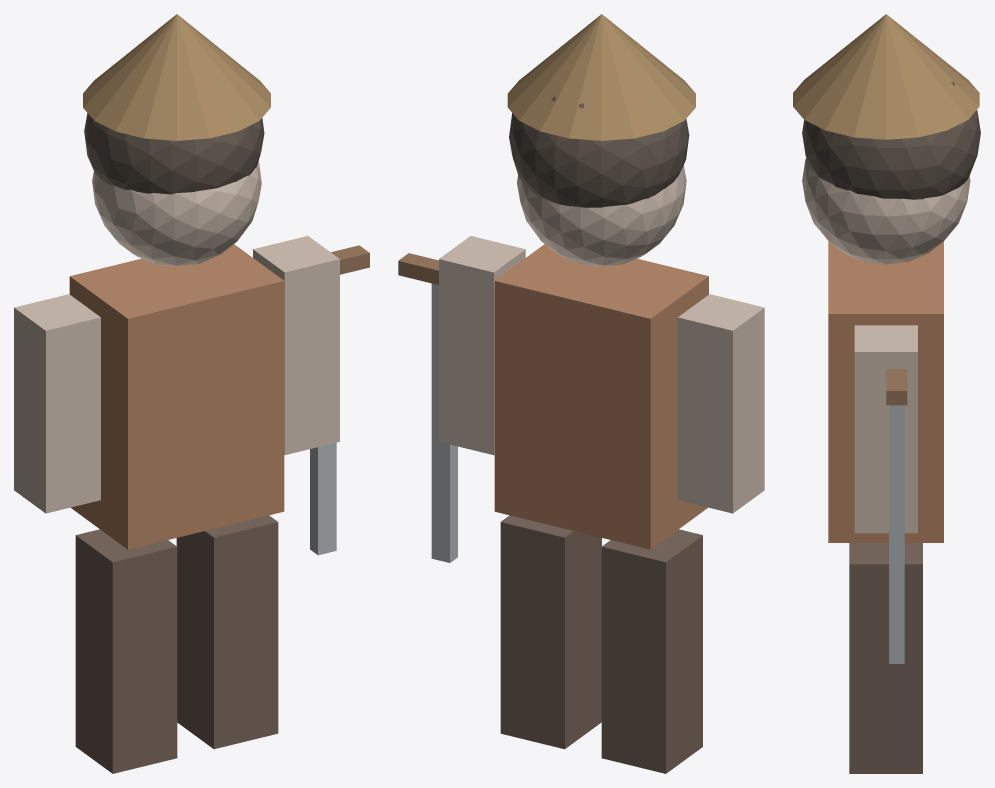
The model's file is barbarian.glb.
The picture shows the model from 3 angles, left to right: view 1: azimuth 30°, elevation 25°; view 2: azimuth 150°, elevation 25°; view 3: azimuth 270°, elevation 25°; orthographic projection.
Parts seen in each view (by area): view 1: g0, g4, g5, g2, g7, g3, g1, g6, g8, g9; view 2: g0, g4, g5, g2, g7, g3, g6, g1, g8, g9; view 3: g0, g5, g7, g3, g6, g1, g8, g9.
Boxes of the visible parts, x1,y1,x2,y2 form: g0: [69, 244, 284, 549]; g4: [75, 529, 177, 773]; g5: [176, 515, 278, 749]; g2: [14, 294, 100, 513]; g7: [83, 14, 270, 140]; g3: [253, 236, 339, 454]; g1: [92, 160, 261, 266]; g6: [84, 113, 264, 194]; g8: [310, 442, 336, 555]; g9: [331, 245, 369, 274]; g0: [494, 244, 708, 549]; g4: [601, 529, 702, 773]; g5: [500, 515, 601, 749]; g2: [677, 294, 764, 513]; g7: [507, 14, 695, 140]; g3: [439, 236, 525, 455]; g6: [509, 96, 689, 207]; g1: [517, 165, 686, 266]; g8: [431, 283, 457, 562]; g9: [398, 253, 438, 284]; g0: [828, 241, 943, 542]; g5: [849, 543, 922, 773]; g7: [793, 14, 979, 139]; g3: [854, 325, 917, 533]; g6: [802, 69, 980, 199]; g1: [802, 158, 970, 264]; g8: [889, 405, 904, 663]; g9: [886, 369, 907, 405].
Size of the model in its own units: 0.74 by 1.51 by 0.3573.
